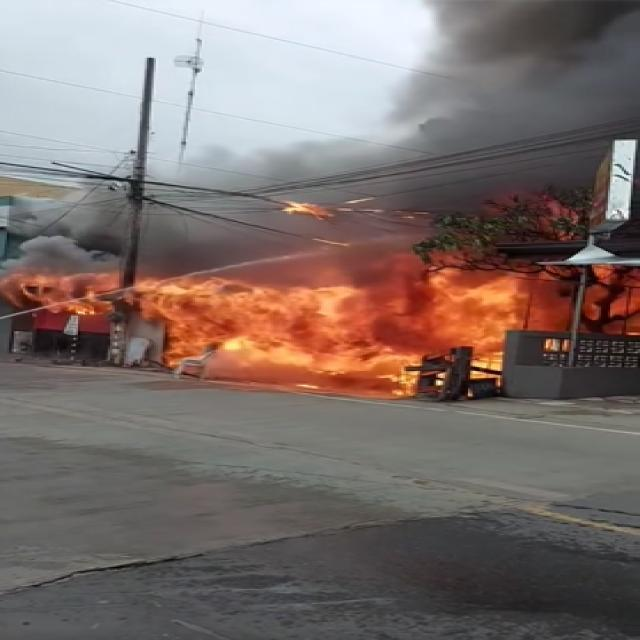Fire: (31, 277, 380, 385), (357, 255, 528, 338), (534, 265, 640, 327)
Smoke: (178, 159, 446, 290), (453, 0, 640, 132), (366, 120, 596, 213)
